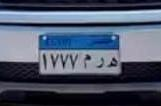1: (41, 51, 48, 71)
7: (69, 51, 78, 71), (60, 52, 69, 69), (50, 52, 59, 69)
haa: (107, 55, 118, 71)
meem: (83, 52, 91, 71)
raa: (94, 55, 106, 71)
